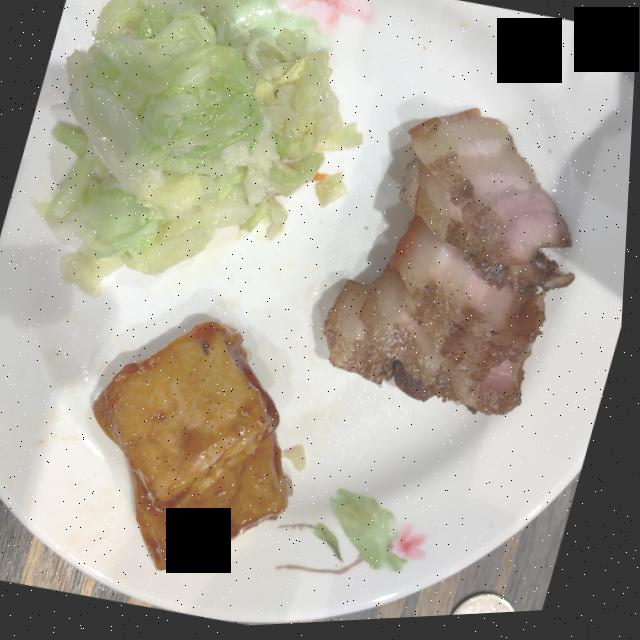cabbage: (37, 0, 363, 298)
coin: (458, 598, 521, 620)
creamy tofu: (96, 323, 296, 572)
red grilled pork: (327, 113, 576, 420)
